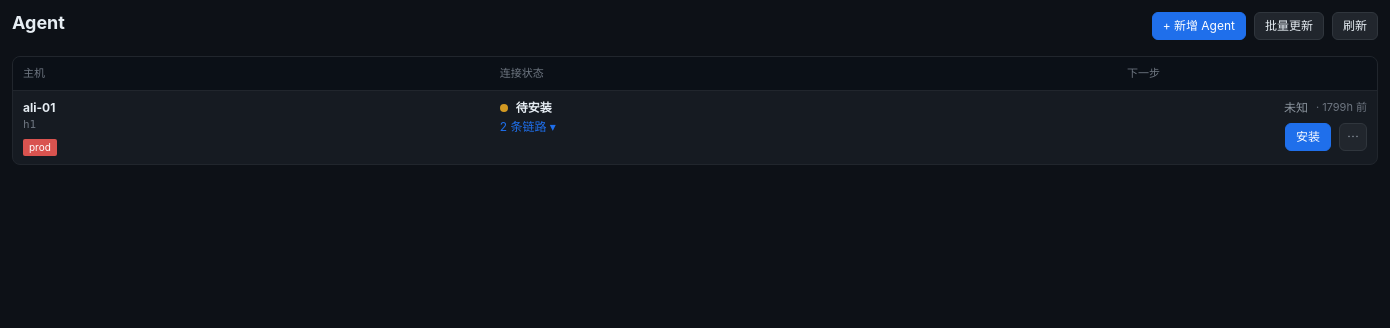
Test: AgentManagerTab › closes the more menu when clicking outside the menu
Step 1. Click the button with test id "agent-more-h1" → x=1353, y=136, box [1339,122,1367,150]
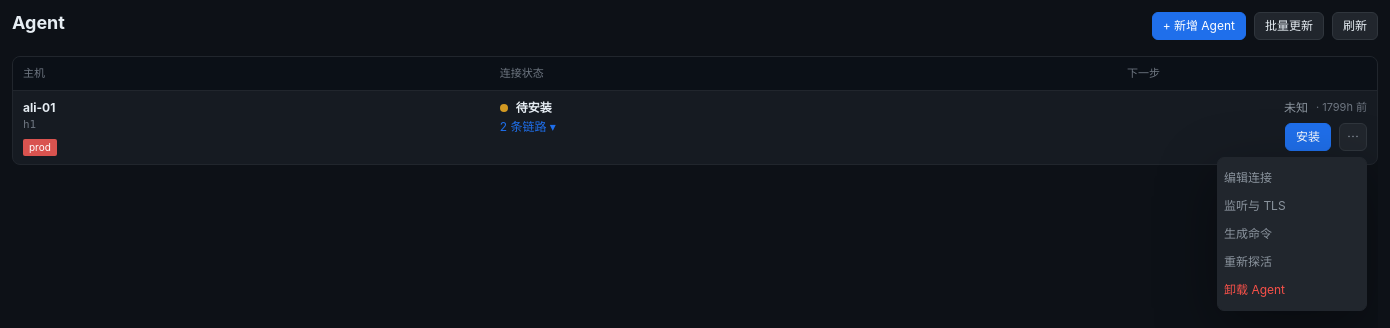
Now the element with test id "agent-menu-h1" is shown, box [1217,156,1367,310]
Step 2. Click the element that starts with "Agent" → x=695, y=88, box [12,12,1378,165]
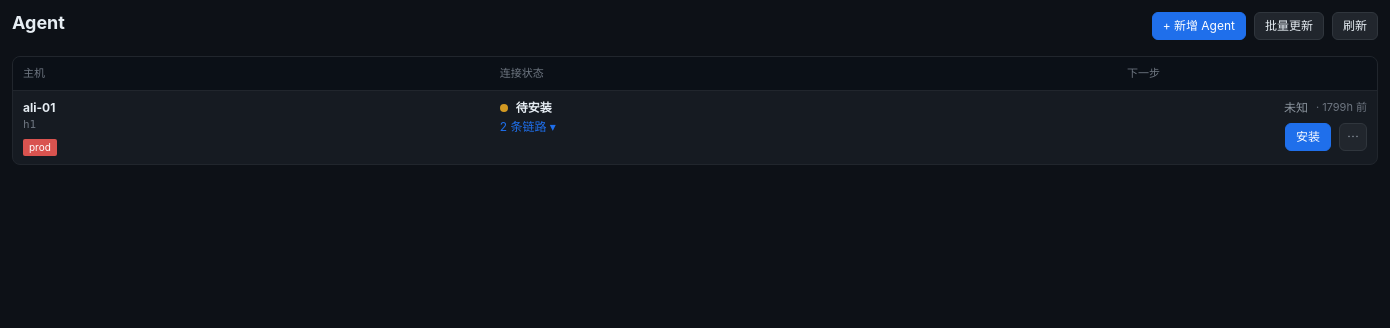
Now the element with test id "agent-menu-h1" is gone
